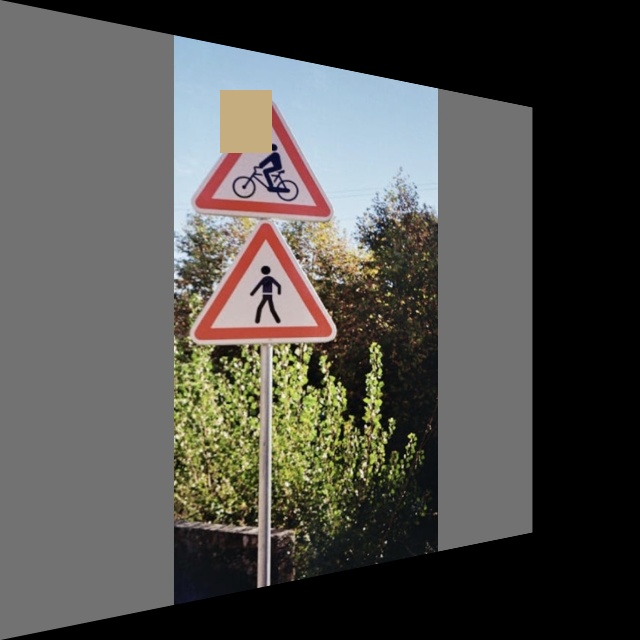Cycle_Crossing: (198, 85, 327, 223)
